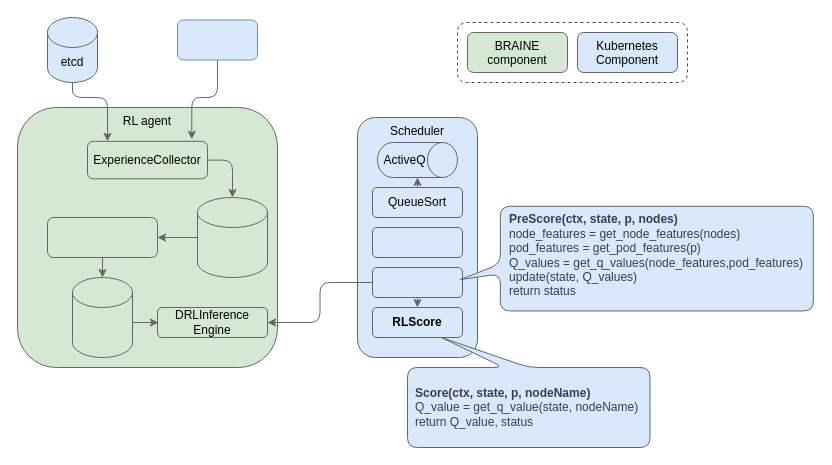
Some shapes in this 832 by 465 pixel diagram are drawn without their labels. Each missing label, with the centre of its shape:
"DRL Weights" belongs at [102,317].
"DRLTrainer" belongs at [102,237].
"Experience Store" belongs at [232,237].
"Filter" belongs at [417,242].
"PreScore" belongs at [417,282].
"Prometheus" belongs at [217,39].
